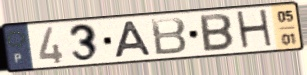3: (67, 22, 103, 65)
4: (37, 25, 66, 65)
A: (113, 19, 154, 60)
B: (149, 15, 189, 57), (198, 12, 235, 54)
H: (234, 7, 277, 52)
